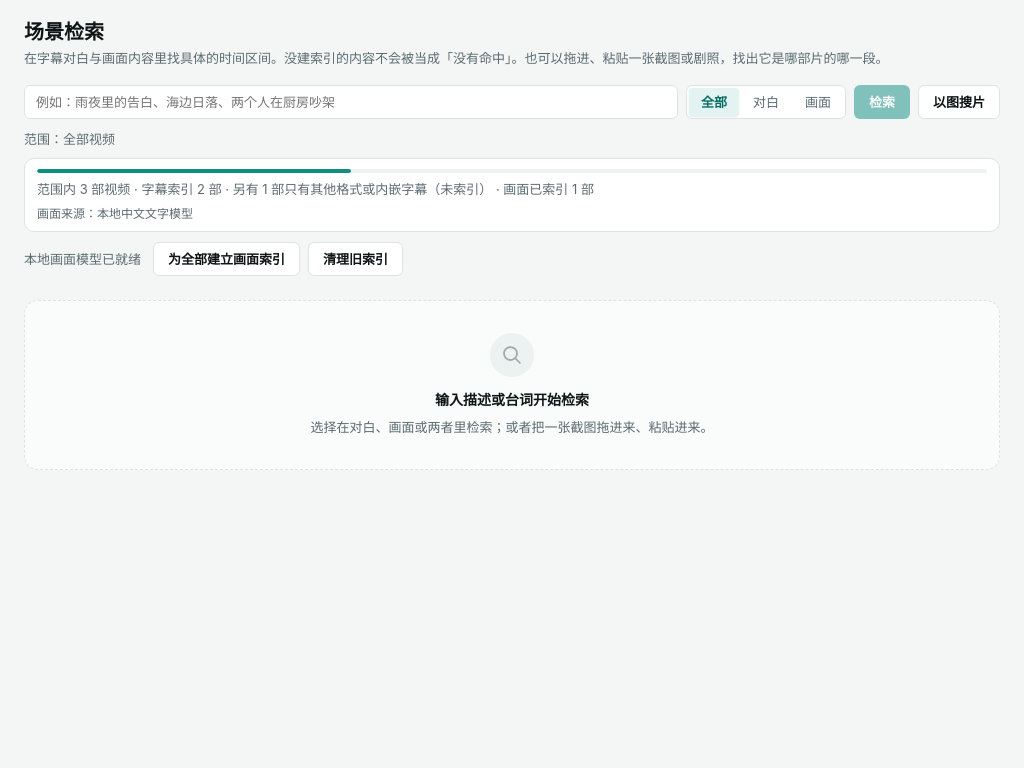
it: 场景检索页（D-MW-SCENES） › 没有命中时按提示说明哪部分没执行，并指出未索引的内容
The width and height of the screenshot is (1024, 768).
In the search field with test id "scenes-query": (351, 102) [24,84,678,118], type "猫"
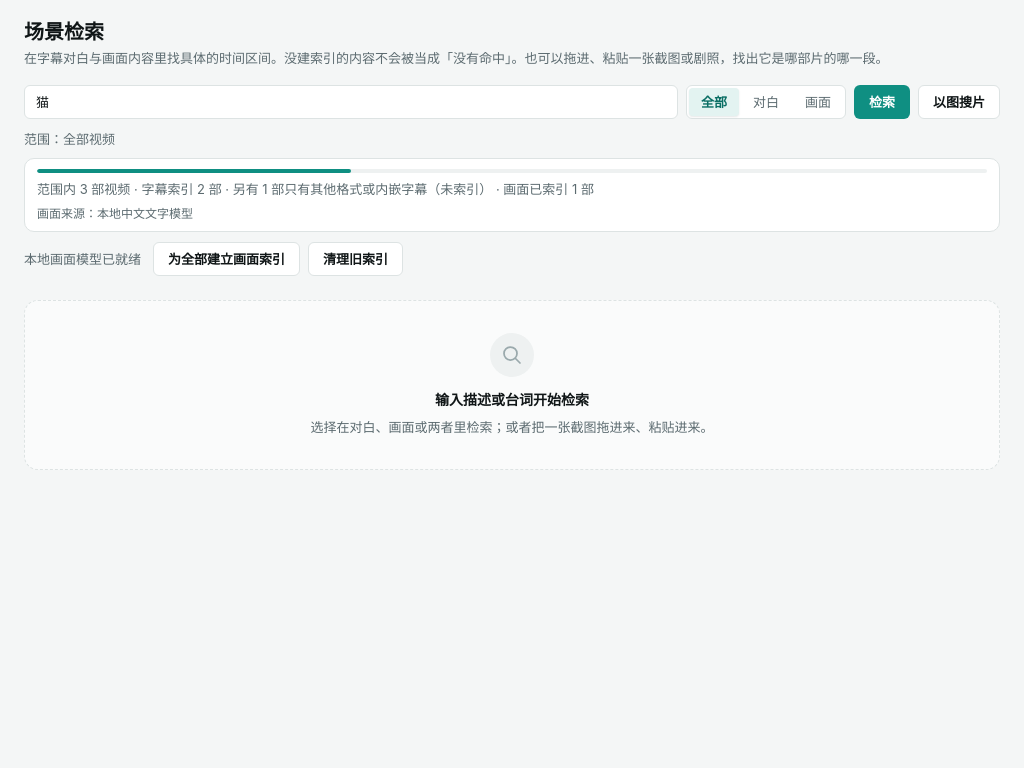
Submit the form with test id "scenes-search-form", box [24,84,1000,118]
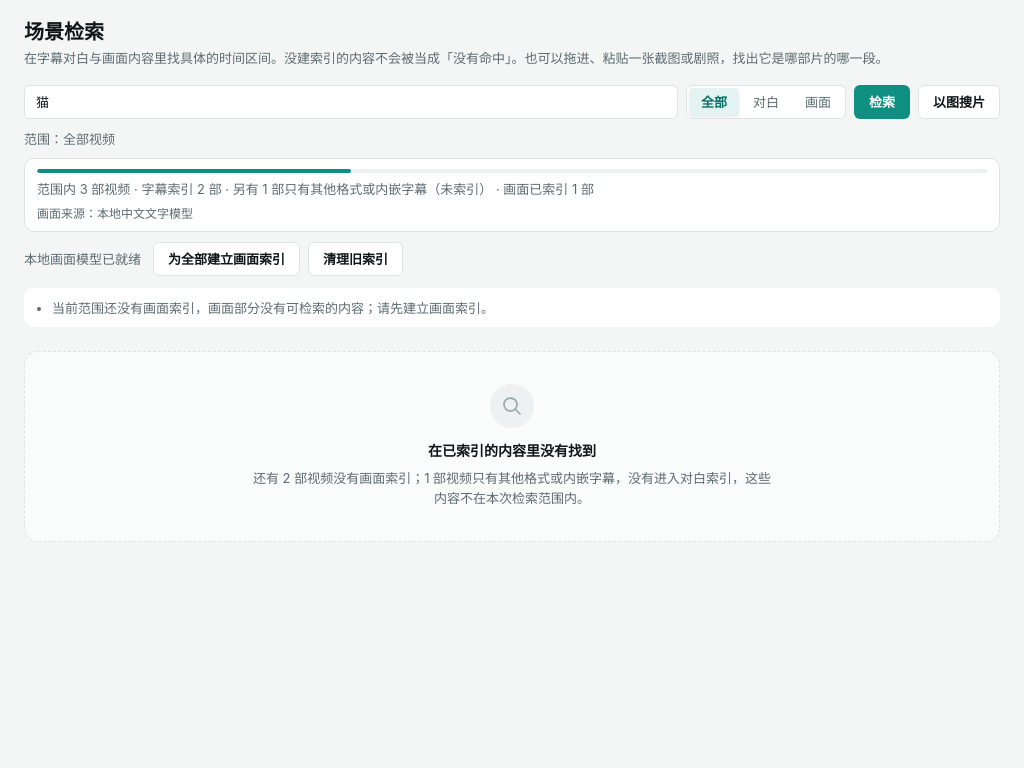
Now the list item with test id "scenes-notice-visual_index_empty" shows "画面索引", box [52,300,494,316]
Now the element with test id "scenes-empty" shows "在已索引的内容里没有找到", box [428,442,596,458]
Now the element with test id "scenes-empty" shows "还有 2 部视频没有画面索引", box [253,470,771,506]
